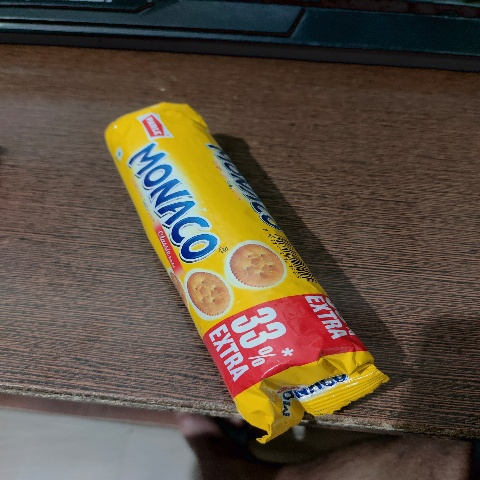monaco: (87, 77, 399, 450)
